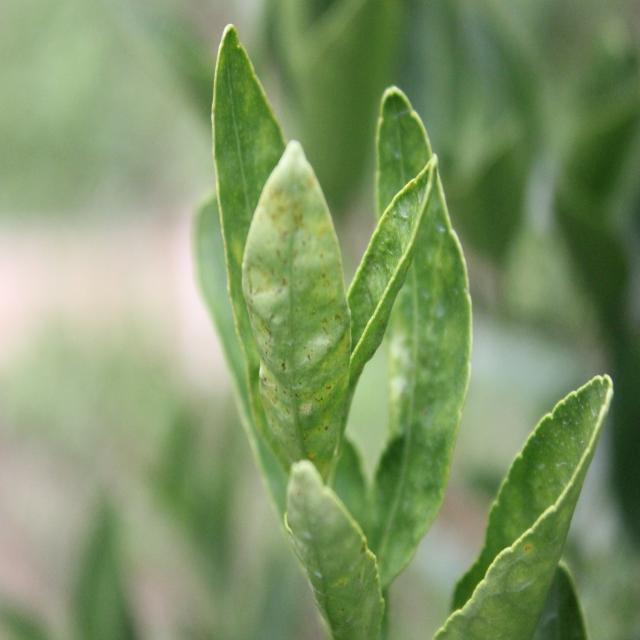canker: (251, 184, 343, 487)
